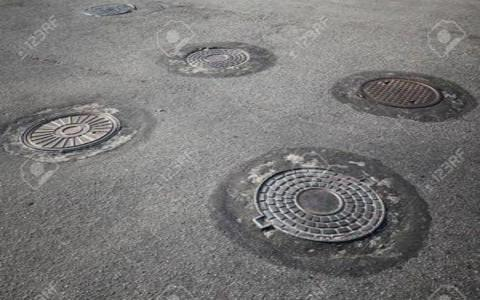proper manhole: (213, 146, 403, 260), (1, 85, 139, 171), (325, 58, 467, 122), (155, 31, 278, 82)
